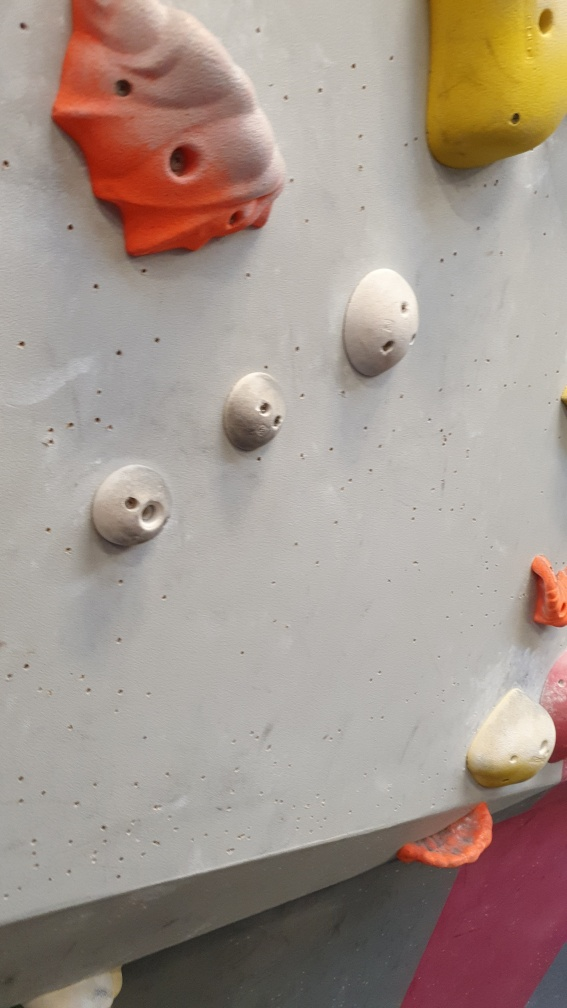Jug: (46, 1, 292, 264), (395, 800, 497, 872), (527, 555, 567, 632)
Sloper: (339, 264, 421, 382), (90, 462, 178, 552), (216, 369, 291, 457)
